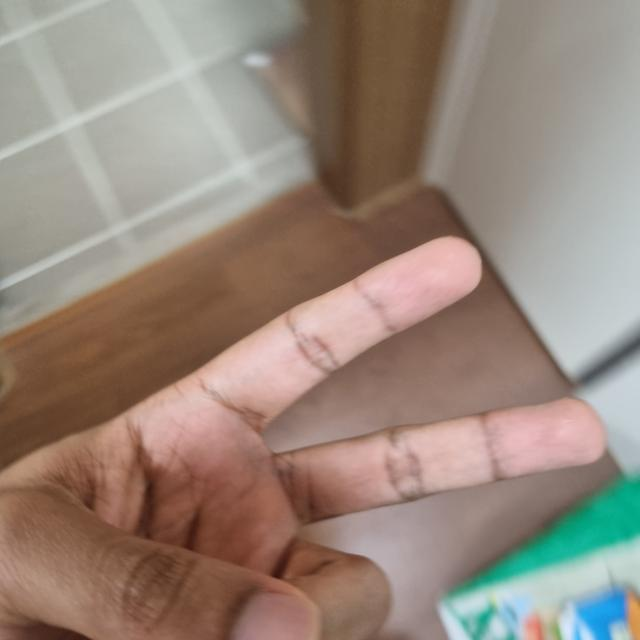Scissors: (0, 193, 618, 639)
